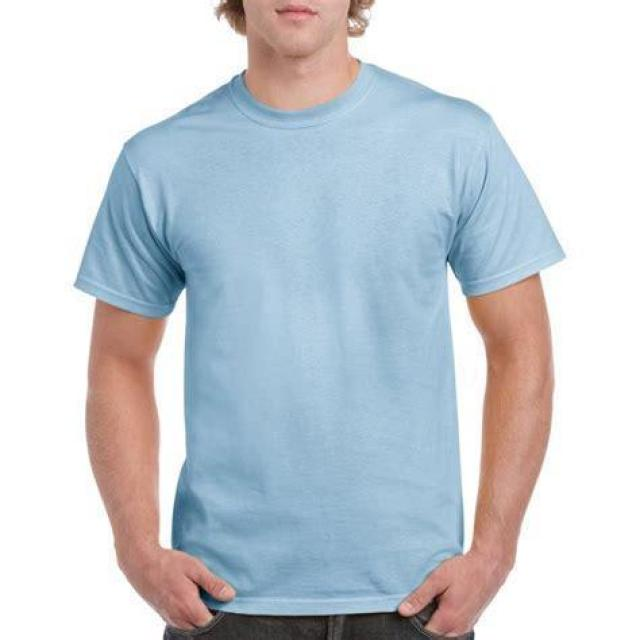Tshirt: (76, 60, 564, 619)
